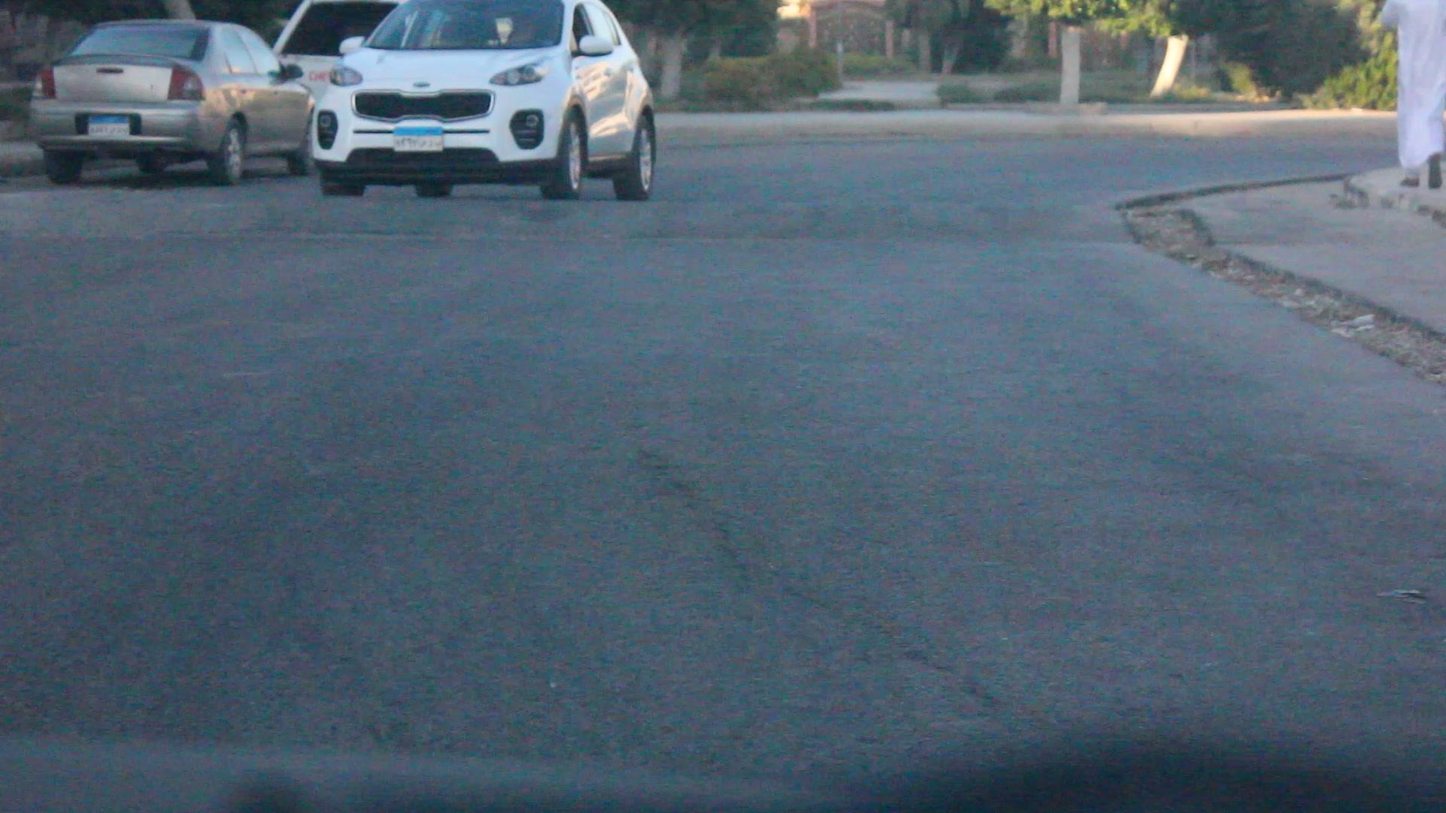Bump: (6, 177, 1194, 267)
